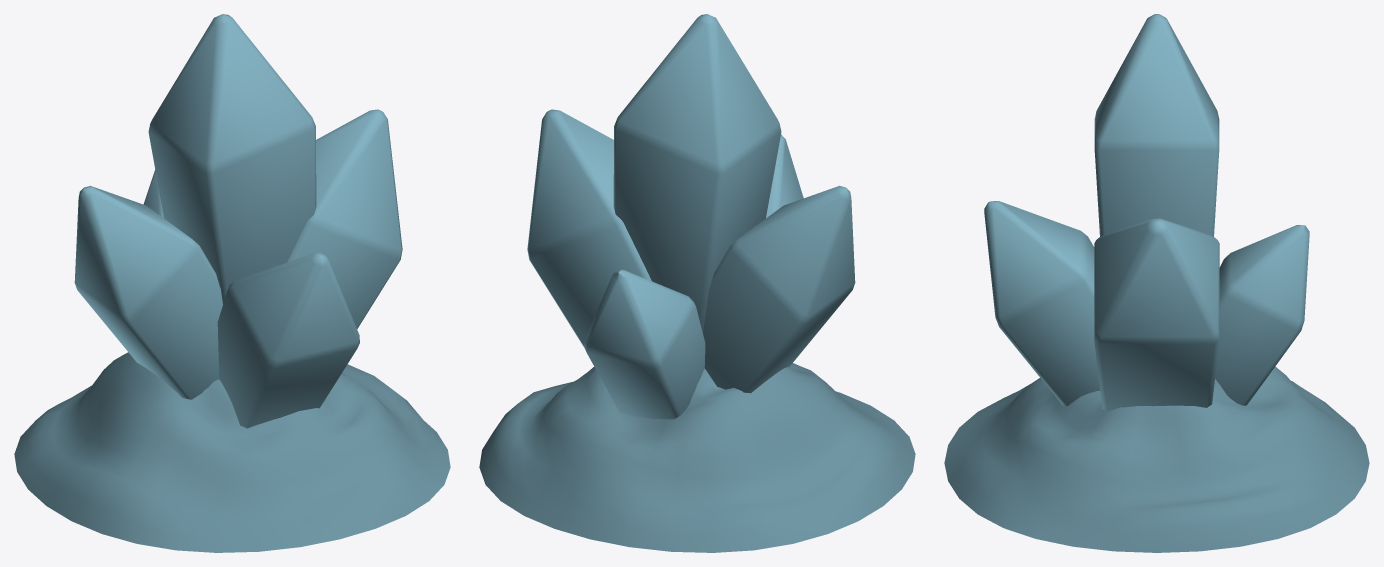
The model's file is Crystal.glb.
The picture shows the model from 3 angles, left to right: view 1: azimuth 30°, elevation 25°; view 2: azimuth 150°, elevation 25°; view 3: azimuth 270°, elevation 25°; orthographic projection.
Parts seen in each view (by area): view 1: Cube.013; view 2: Cube.013; view 3: Cube.013.
Boxes of the visible parts, x1,y1,x2,y2 form: Cube.013: (14,14,450,552); Cube.013: (479,14,915,552); Cube.013: (944,14,1369,552).
Bounding box in the file's own units: 3.46 × 3.98 × 3.46.
